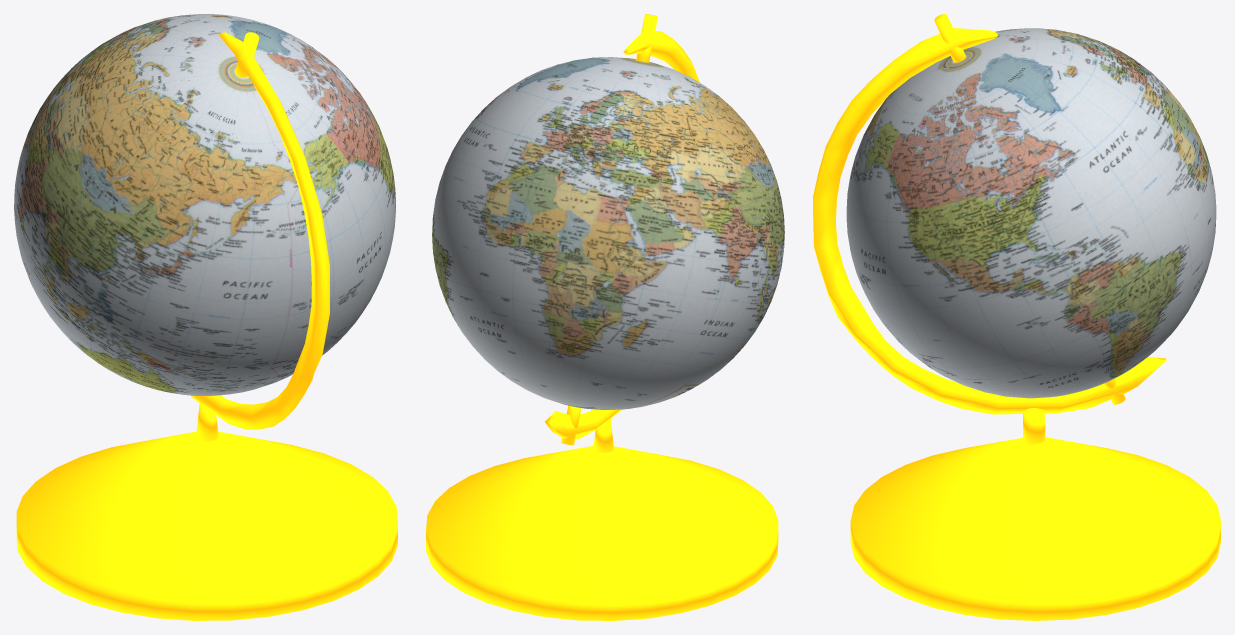
Rendered from Globe.fbx.
3 views of the same model, side by side, from view 1: azimuth 30°, elevation 25°; view 2: azimuth 150°, elevation 25°; view 3: azimuth 270°, elevation 25° (orthographic). The views are drawn at different scales.
Visible parts, largest first — view 1: Sphere, Cone; view 2: Sphere, Cone; view 3: Sphere, Cone.
Boxes of the visible parts, x1=… form: Sphere: x1=14, y1=14, x2=395, y2=395; Cone: x1=16, y1=32, x2=397, y2=620; Sphere: x1=432, y1=57, x2=784, y2=409; Cone: x1=426, y1=14, x2=778, y2=620; Sphere: x1=846, y1=28, x2=1216, y2=398; Cone: x1=813, y1=14, x2=1220, y2=620.
Size of the model in its own units: 2.03 by 3.13 by 2.2.
Materials: 2 (1 with a texture image).
